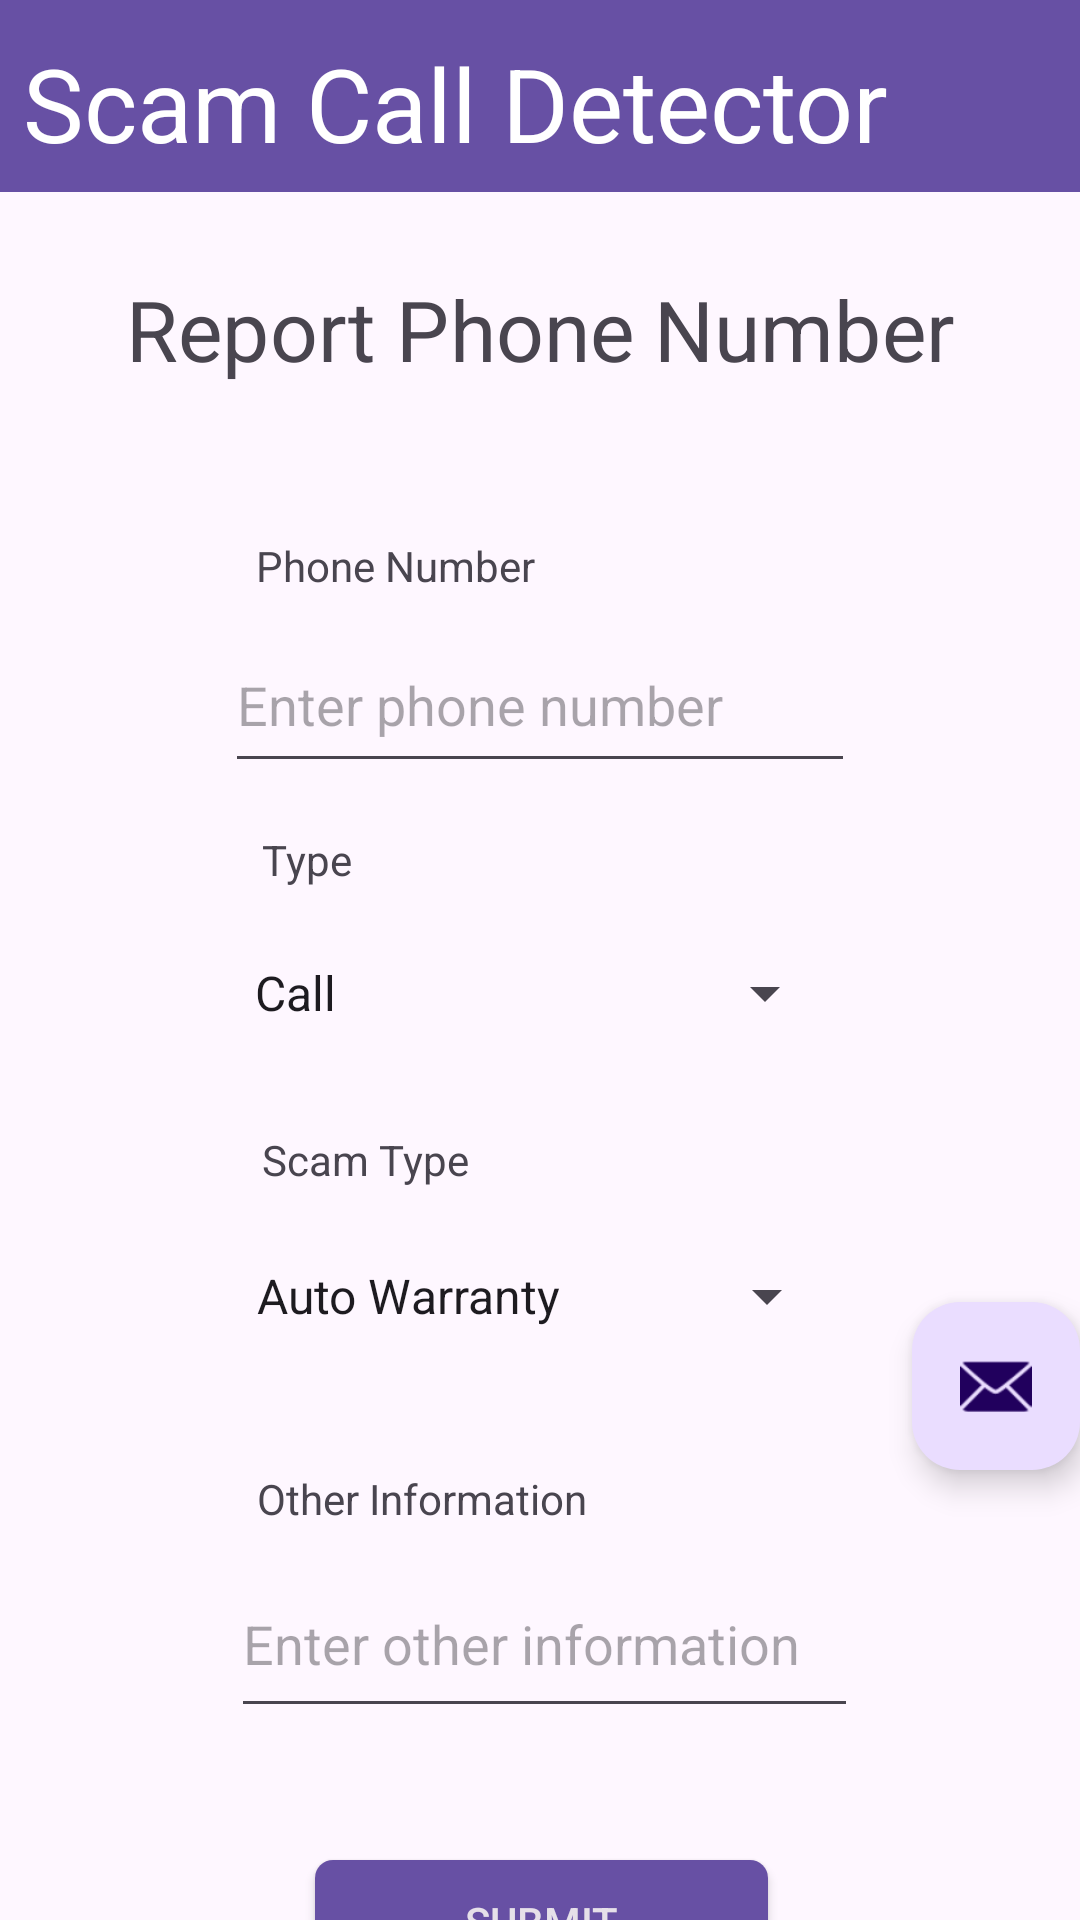

Named icons in this screenshot (1080 x 1920) and their centers, (x=x, y=y):
email: (x=996, y=1386)
